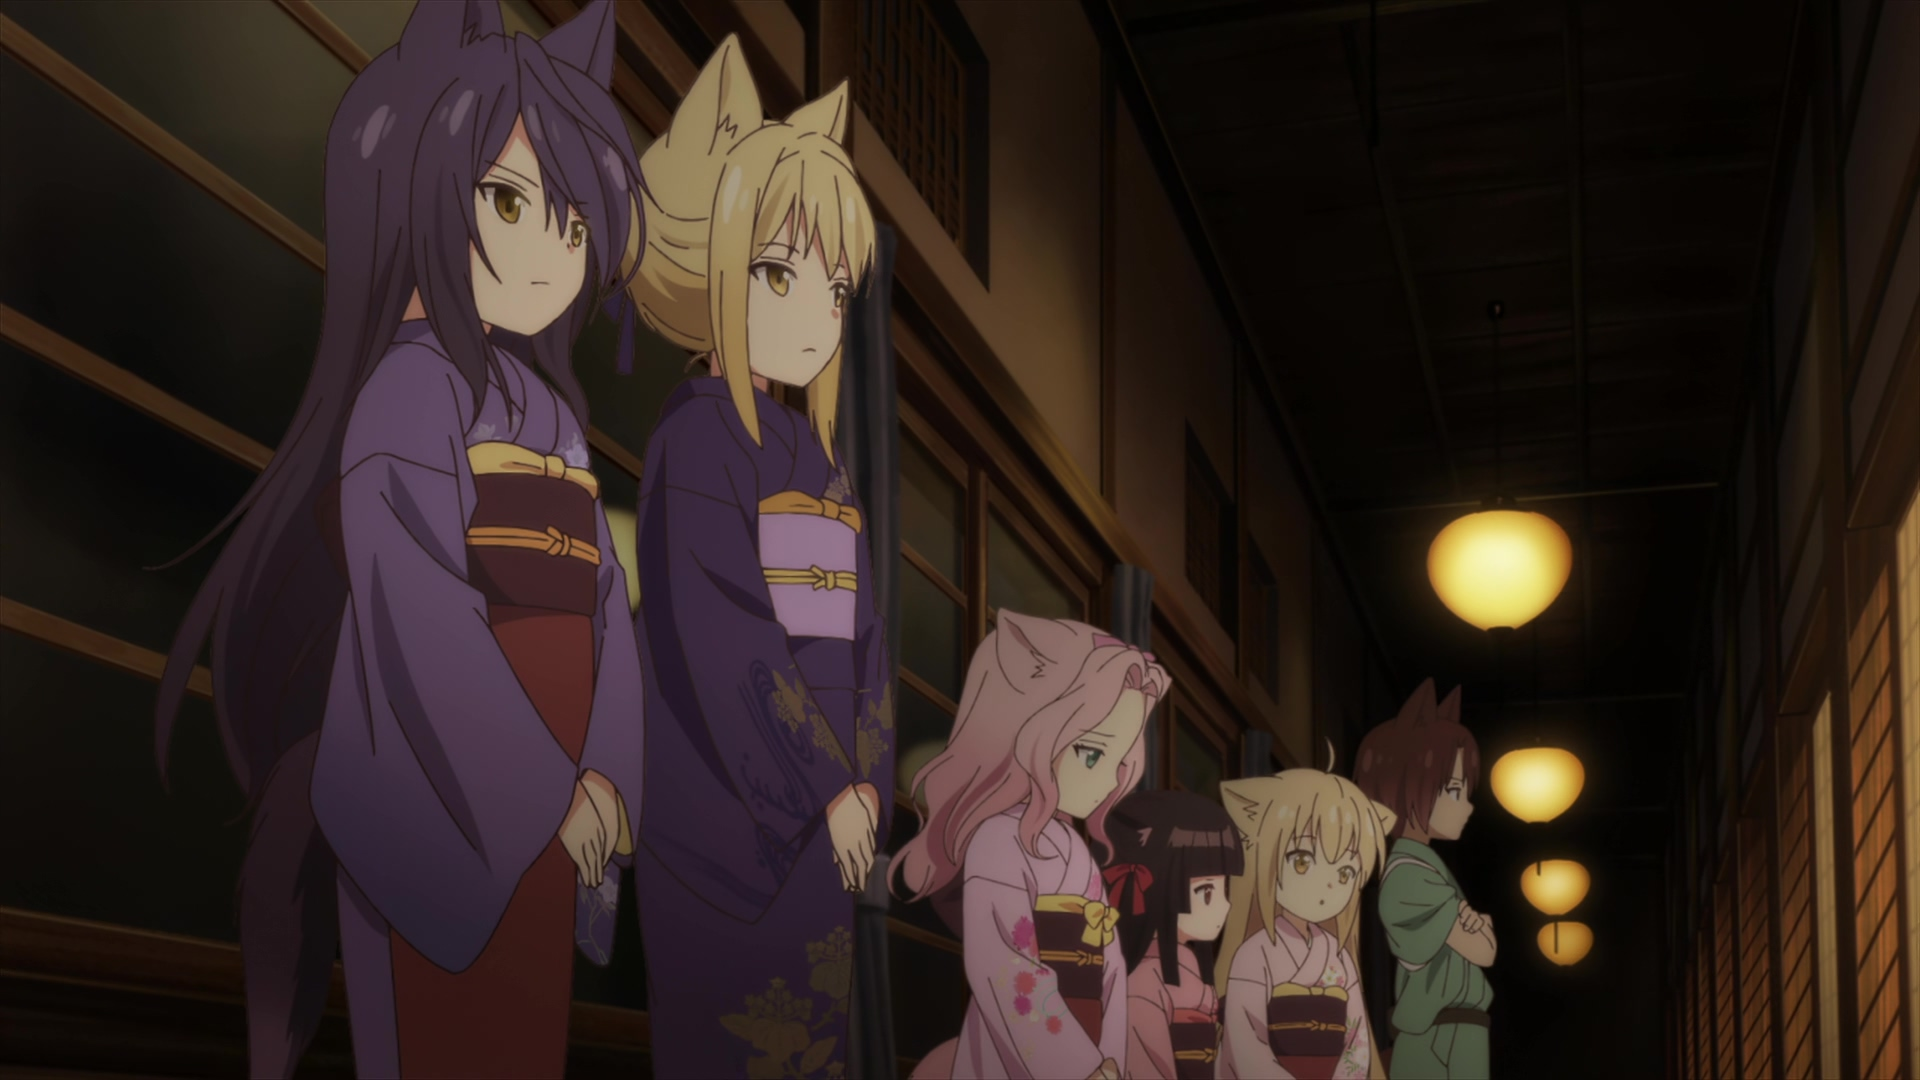枣: (1362, 686, 1495, 1080)
柚: (1218, 735, 1396, 1080)
桐: (629, 34, 881, 1080)
樱: (1108, 791, 1244, 1079)
皋: (149, 1, 647, 1080)
莲: (891, 608, 1171, 1080)
